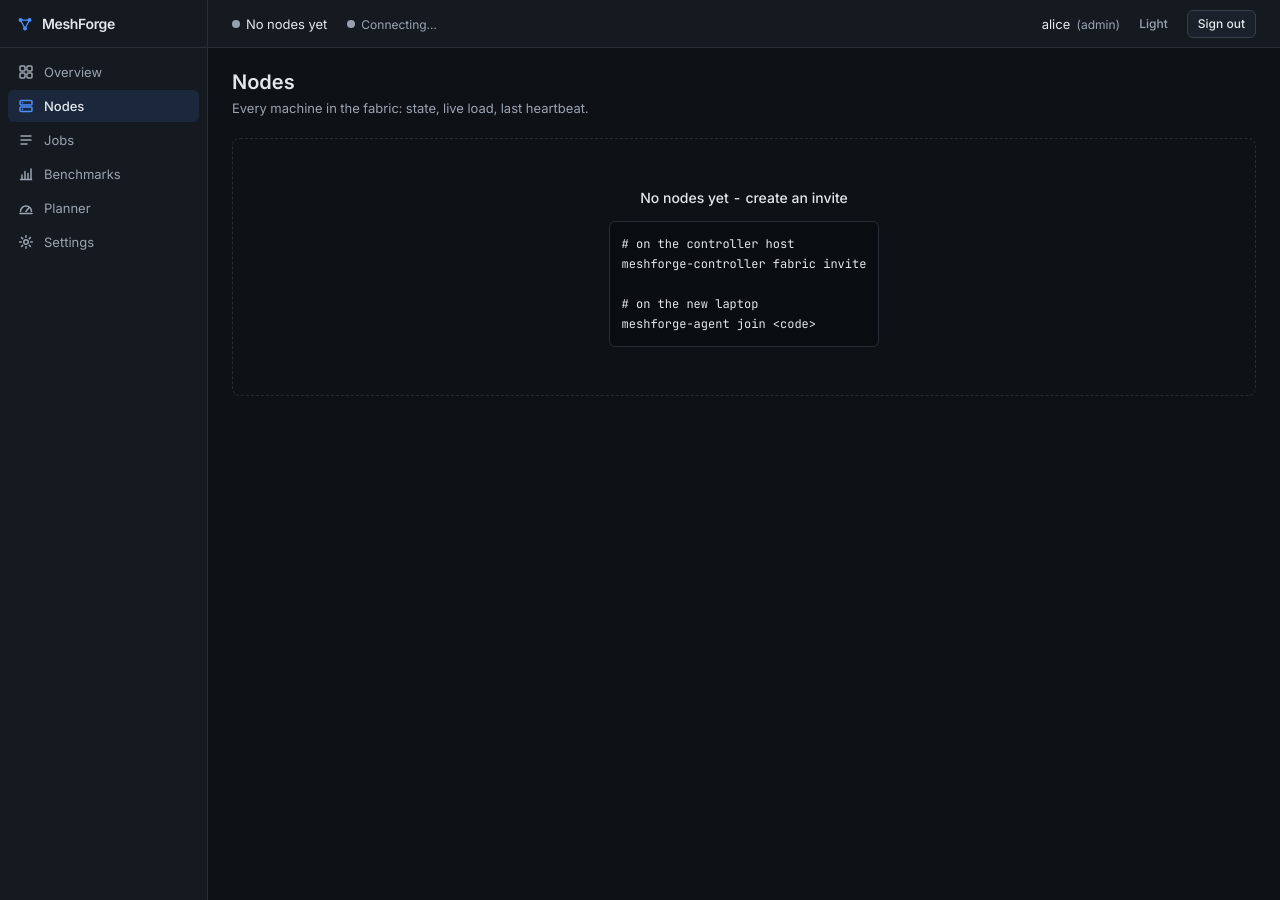
Scenario: T2: sign-out race › double-click on Sign out sends one DELETE
This screenshot has width=1280, height=900.
Expected: the element with test id "current-user" is shown, [1042,14,1120,34]
Double-click the button "Sign out" at (1221, 24), box [1187,10,1256,38]
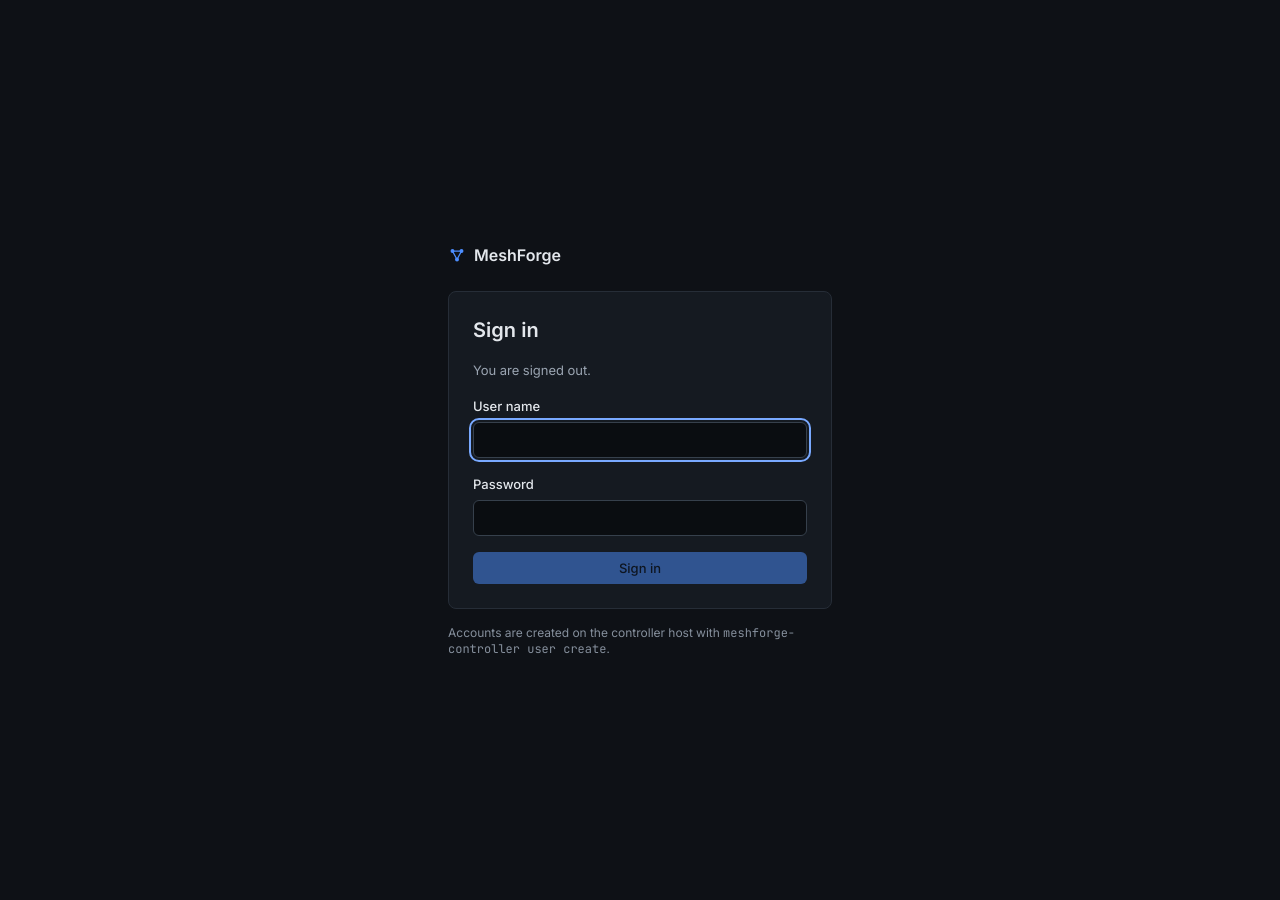
Now the text "You are signed out." is shown, box [473,362,591,378]
